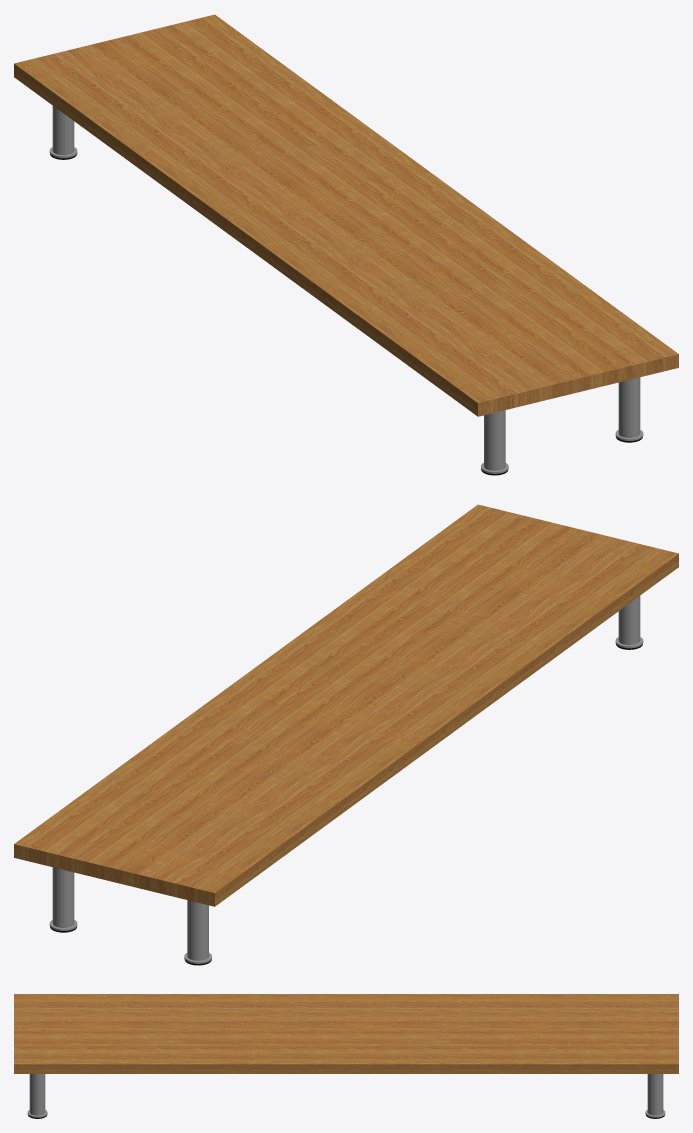
The model's file is monitor_shelf.glb.
The picture shows the model from 3 angles, top to bottom: view 1: azimuth 30°, elevation 25°; view 2: azimuth 150°, elevation 25°; view 3: azimuth 270°, elevation 25°; orthographic projection. The views are drawn at different scales.
Parts seen in each view (by area): view 1: Plane; view 2: Plane; view 3: Plane.
Boxes of the visible parts, left/top/right/bottom form: Plane: left=14, top=14, right=678, bottom=475; Plane: left=14, top=504, right=678, bottom=965; Plane: left=14, top=994, right=678, bottom=1118.
Size of the model in its own units: 10.5 by 4.33 by 42.
Materials: 3 (1 with a texture image).
